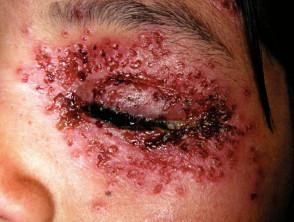Eczema: (38, 17, 198, 199), (198, 50, 241, 196)
